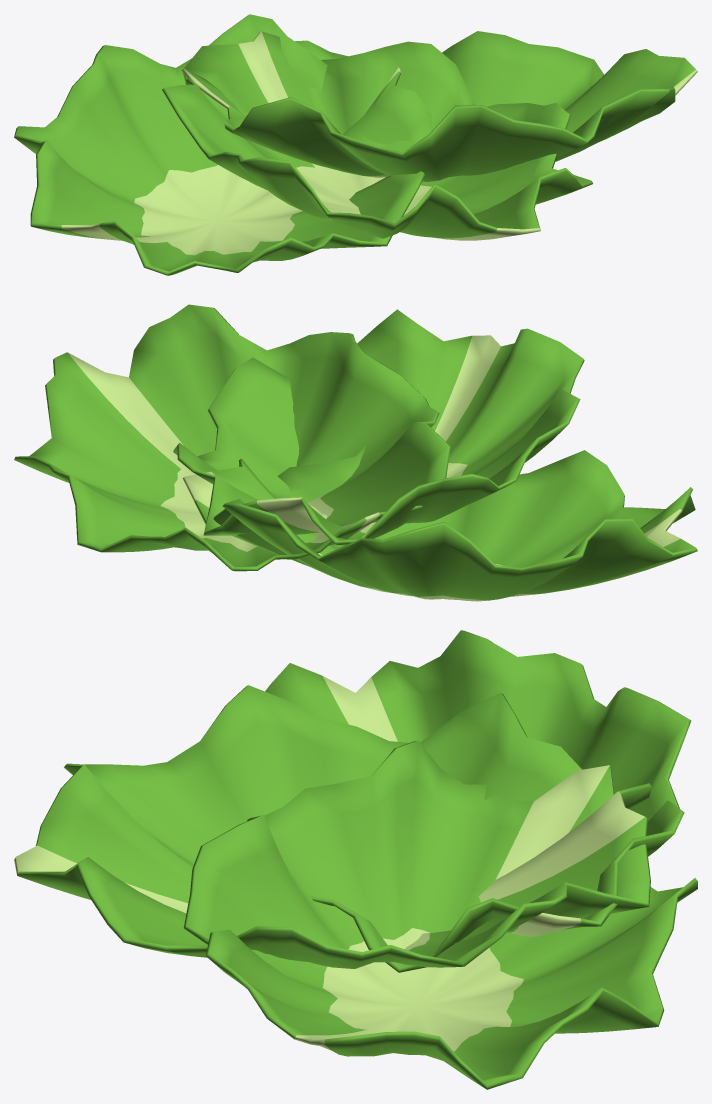
Rendered from Lettuce.fbx.
3 renders of one model, top to bottom at view 1: azimuth 30°, elevation 25°; view 2: azimuth 150°, elevation 25°; view 3: azimuth 270°, elevation 25°, orthographic. The views are drawn at different scales.
Visible parts, largest first — view 1: Lettuce; view 2: Lettuce; view 3: Lettuce.
Part boxes in pixels (x1,y1,x2,y2): Lettuce: [14, 14, 697, 275]; Lettuce: [14, 304, 697, 601]; Lettuce: [14, 630, 697, 1089].
Size of the model in its own units: 0.1858 by 0.0399 by 0.1336.
